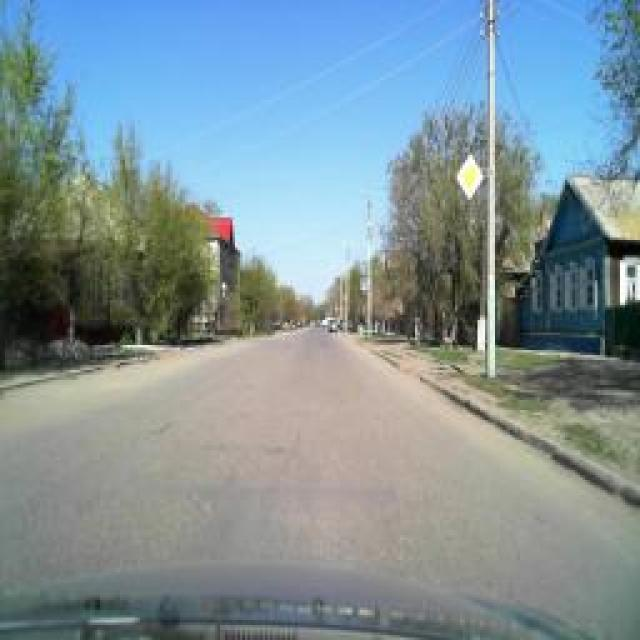sign: (456, 151, 484, 201)
